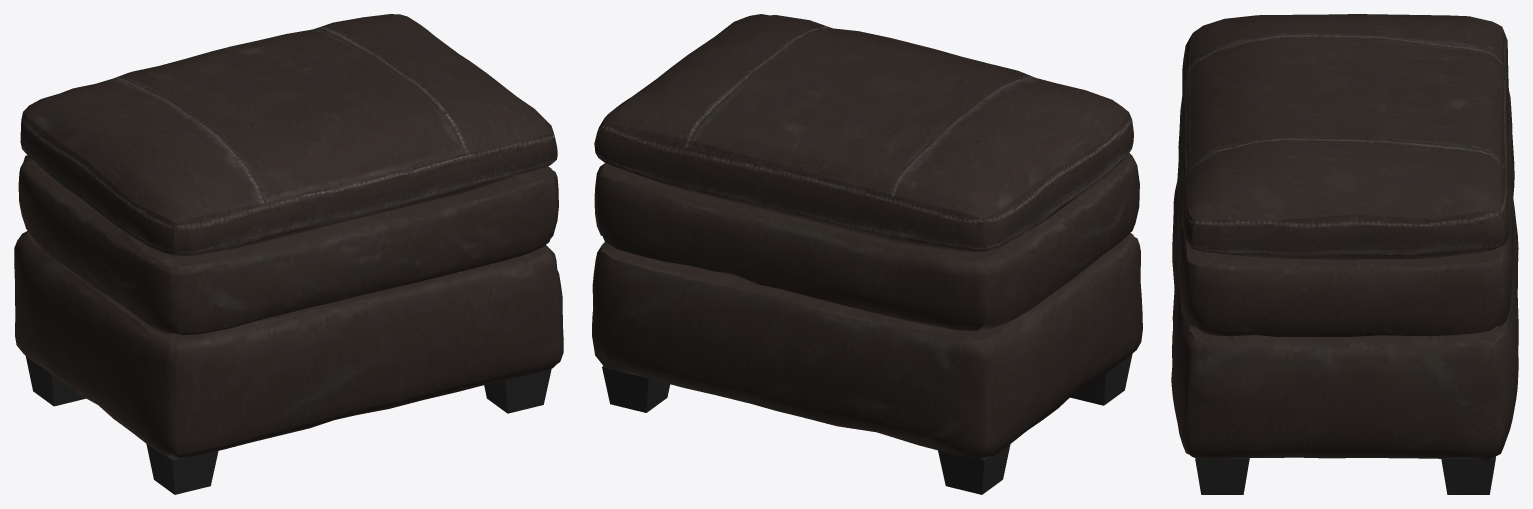
The model's file is ottoman.glb.
3 renders of one model, left to right at view 1: azimuth 30°, elevation 25°; view 2: azimuth 150°, elevation 25°; view 3: azimuth 270°, elevation 25°, orthographic.
Parts seen in each view (by area): view 1: Ottoman_01; view 2: Ottoman_01; view 3: Ottoman_01.
Part boxes in pixels (x1,y1,x2,y2): Ottoman_01: (14, 14, 563, 494); Ottoman_01: (592, 14, 1142, 494); Ottoman_01: (1171, 14, 1518, 494).
Bounding box in the file's own units: 0.8846 × 0.6243 × 0.6212.
Materials: 1 (1 with a texture image).
